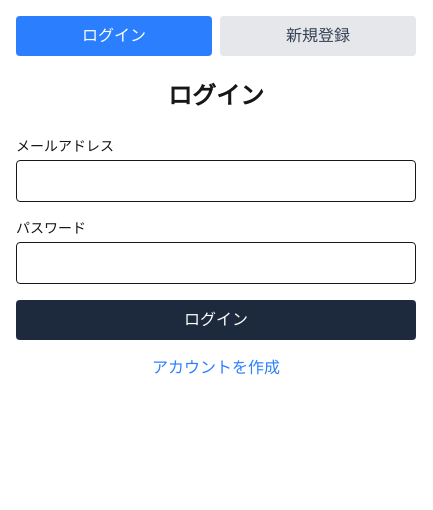
Test case: AuthForm Component › ネットワークエラーハンドリング › should display error message on network failure during registration
This screenshot has width=433, height=510.
登録フォームに切り替え
Click the button "アカウントを作成": click(216, 368) [152,356,280,380]
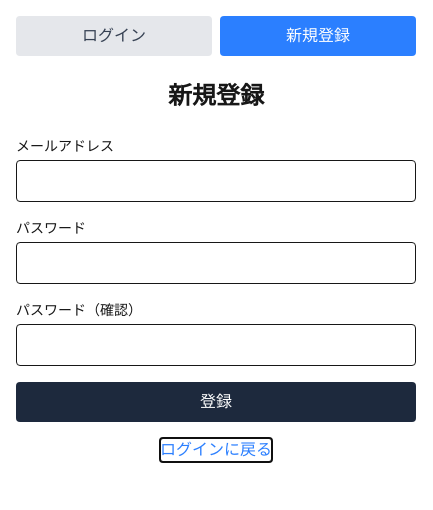
In the field labelled "メールアドレス": (216, 181) [16,160,416,202], type "test@example.com"
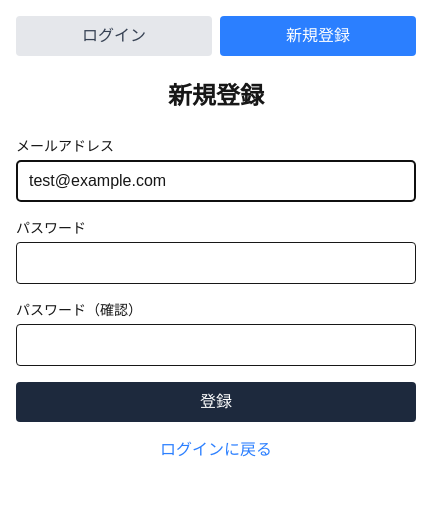
In the password field labelled "パスワード": (216, 263) [16,242,416,284], type "ValidPassword123!"
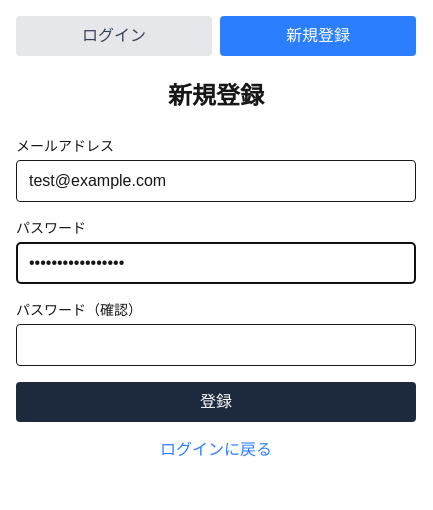
In the password field labelled "パスワード（確認）": (216, 345) [16,324,416,366], type "ValidPassword123!"
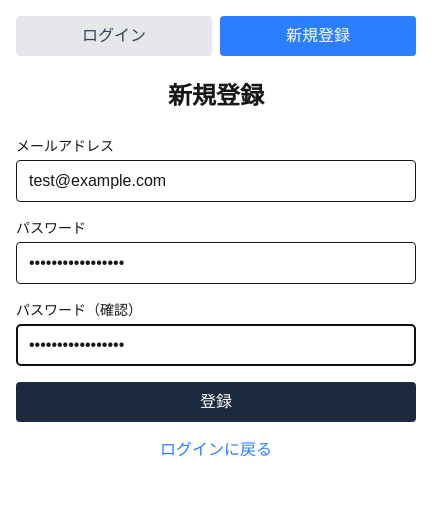
Click the button with test id "register-button": click(216, 402) [16,382,416,422]
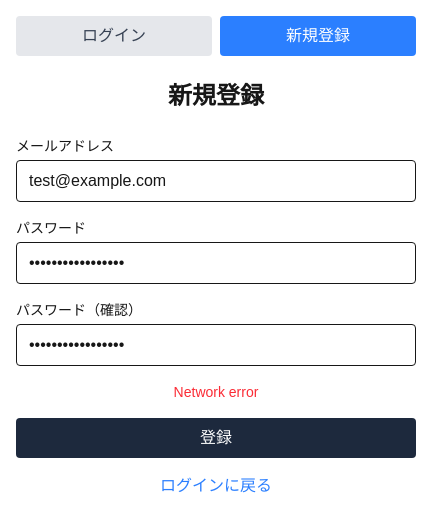
Now the text "Network error" is shown, box [174,384,258,400]
